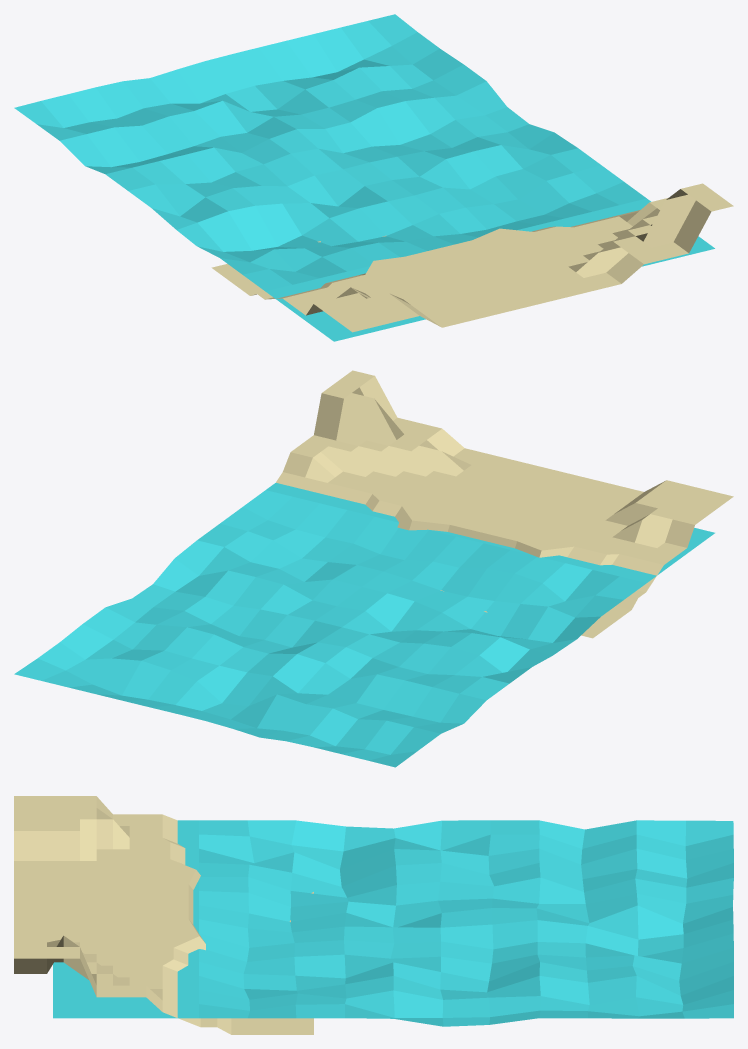
Rendered from beach.glb.
3 renders of one model, top to bottom at view 1: azimuth 30°, elevation 25°; view 2: azimuth 150°, elevation 25°; view 3: azimuth 270°, elevation 25°, orthographic. The views are drawn at different scales.
Visible parts, largest first — view 1: Plane.001, Plane; view 2: Plane.001, Plane; view 3: Plane.001, Plane.
Part boxes in pixels (x1,y1,x2,y2): Plane.001: (14, 14, 714, 341); Plane: (211, 183, 733, 332); Plane.001: (14, 483, 714, 767); Plane: (276, 370, 733, 638); Plane.001: (53, 820, 733, 1026); Plane: (14, 796, 313, 1034).
Size of the model in its own units: 11 by 2.2 by 16.92.
